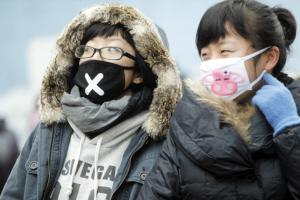OK: (199, 38, 261, 100)
WRONG: (77, 33, 143, 99)
